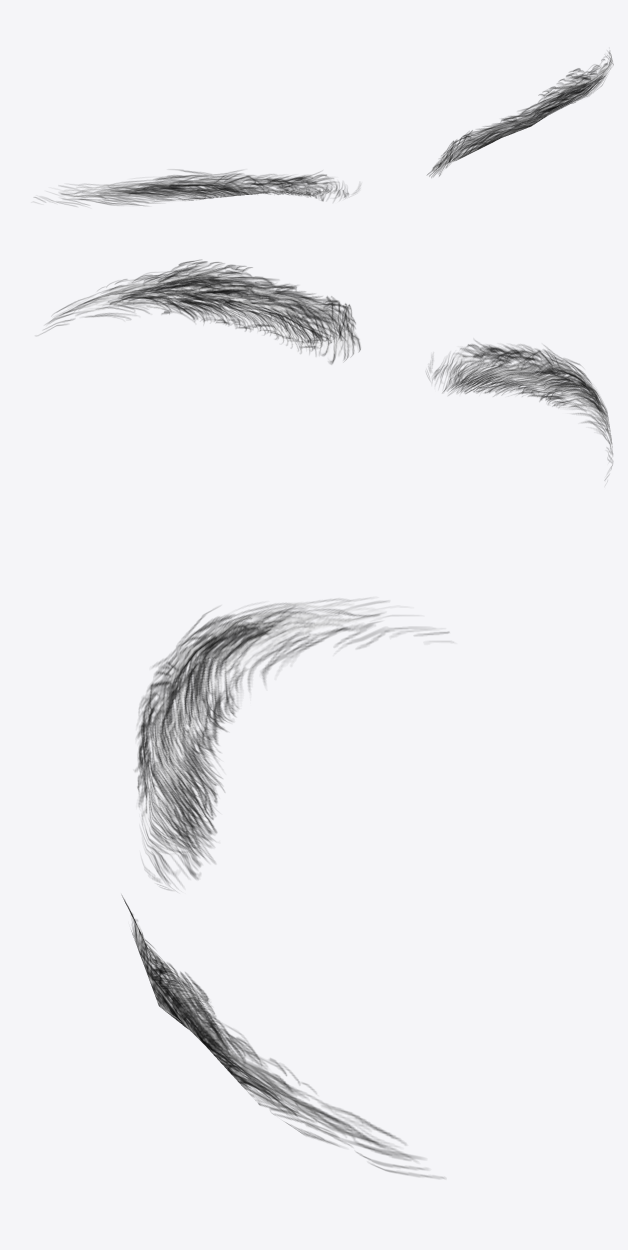
The model's file is brows_eyebrow012.gltf.
3 renders of one model, top to bottom at view 1: azimuth 30°, elevation 25°; view 2: azimuth 150°, elevation 25°; view 3: azimuth 270°, elevation 25°, orthographic. The views are drawn at different scales.
Visible parts, largest first — view 1: brows_eyebrow012; view 2: brows_eyebrow012; view 3: brows_eyebrow012.
Part boxes in pixels (left/top/right/bottom): brows_eyebrow012: left=34, top=51, right=613, bottom=205; brows_eyebrow012: left=40, top=259, right=612, bottom=479; brows_eyebrow012: left=122, top=599, right=448, bottom=1178.
Size of the model in its own units: 0.1147 by 0.0183 by 0.0331.
1 material, 1 textured.
